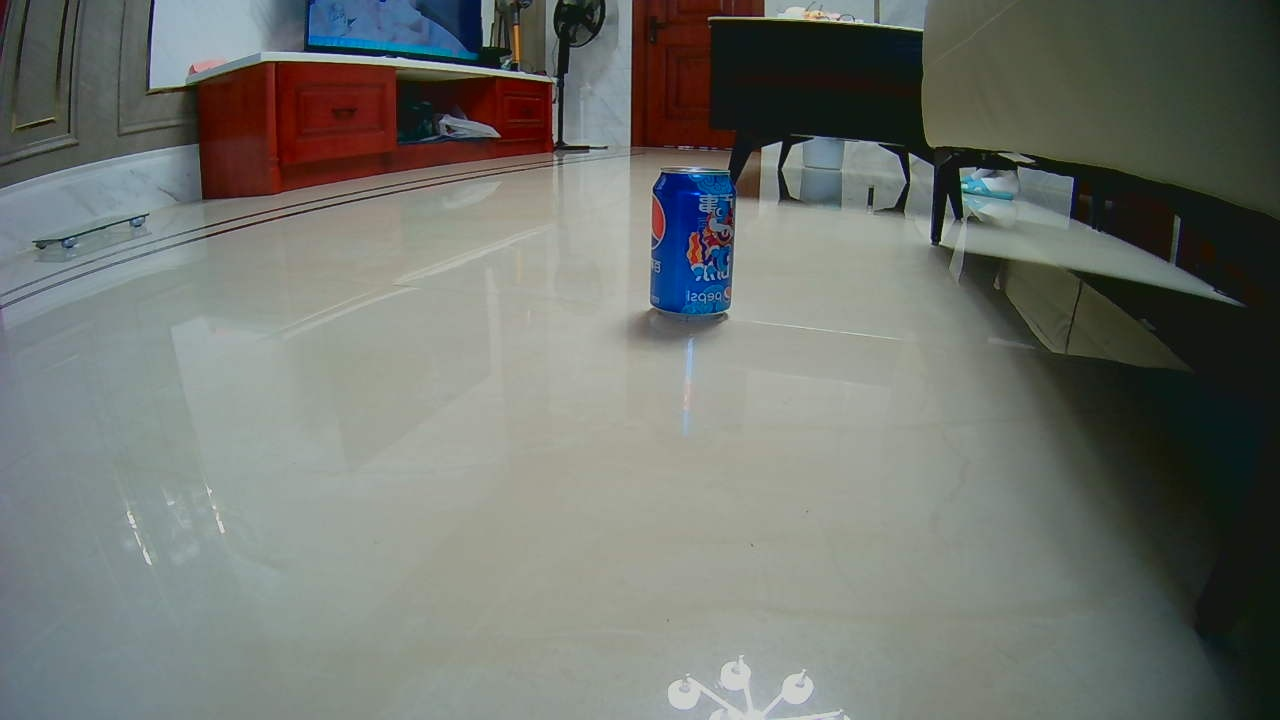pessi: (649, 167, 733, 323)
